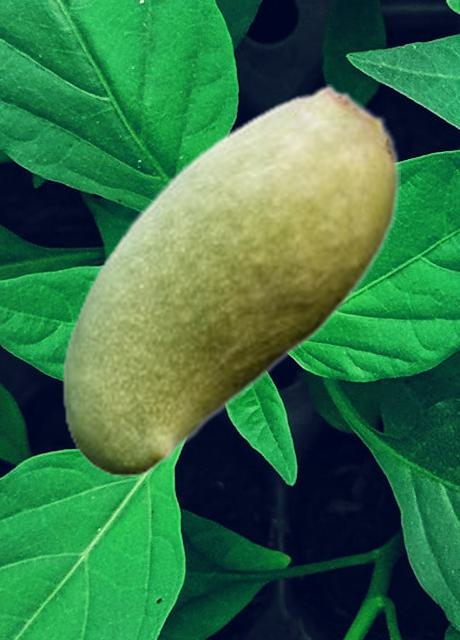green_mango: (61, 84, 399, 475)
